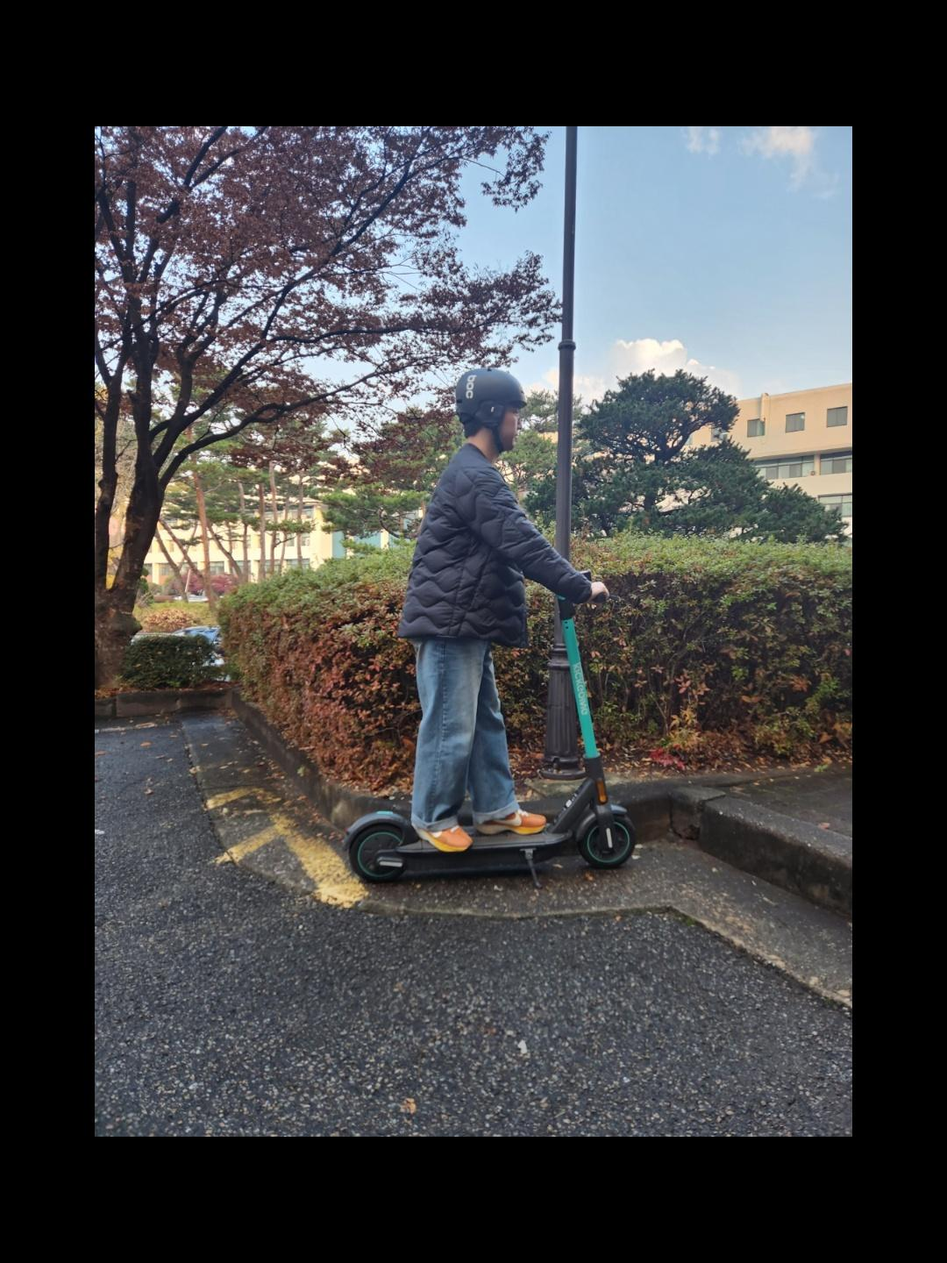helmet: (436, 363, 534, 480)
human: (392, 360, 593, 832)
kickboard: (339, 810, 640, 895)
